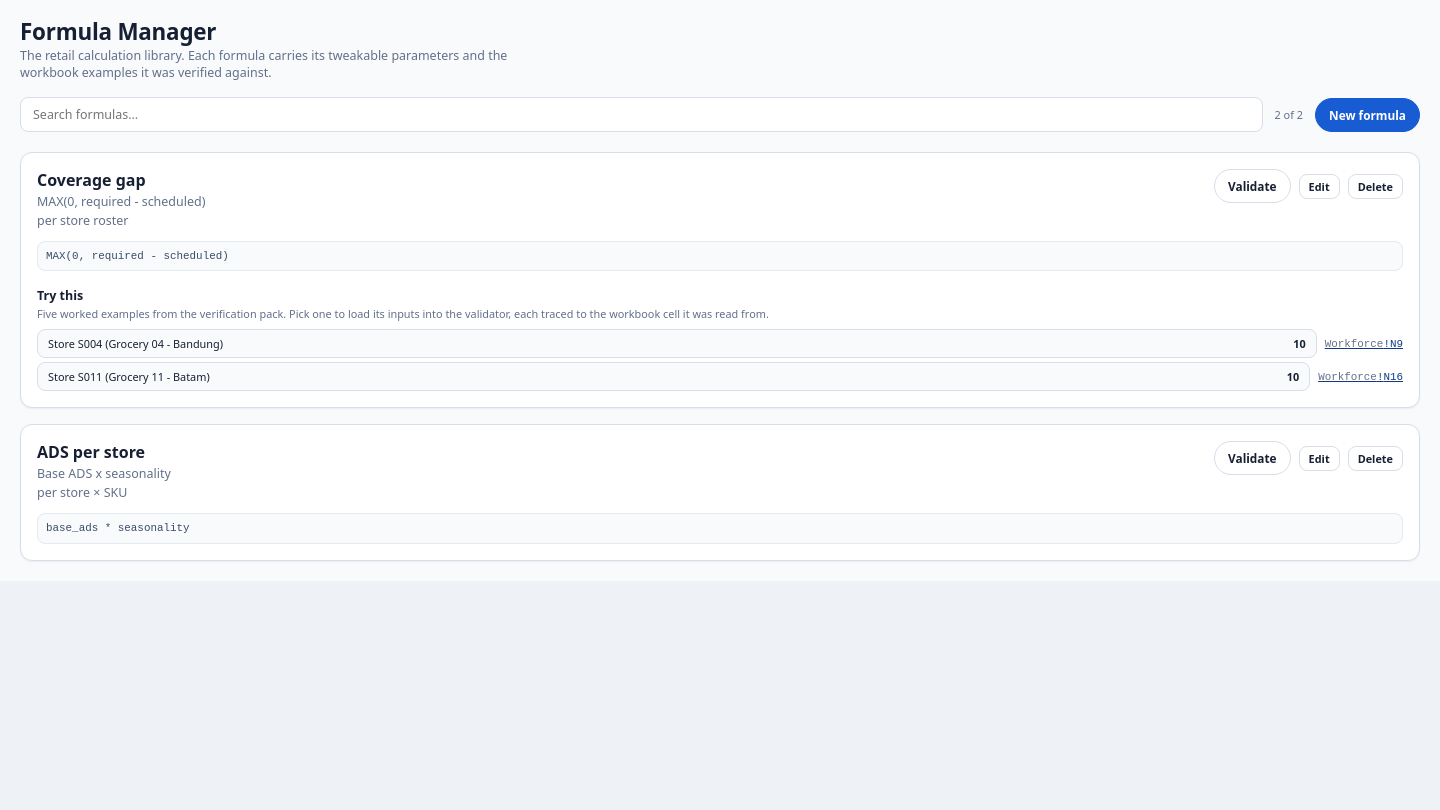
Test: Formula Manager › leaves the validator uncited when no example is loaded
Check: the heading "Coverage gap" is shown, box [37,169,146,191]
Click the button "Validate" in the row of "Coverage gap" at (1252, 186), box [1214,169,1291,203]
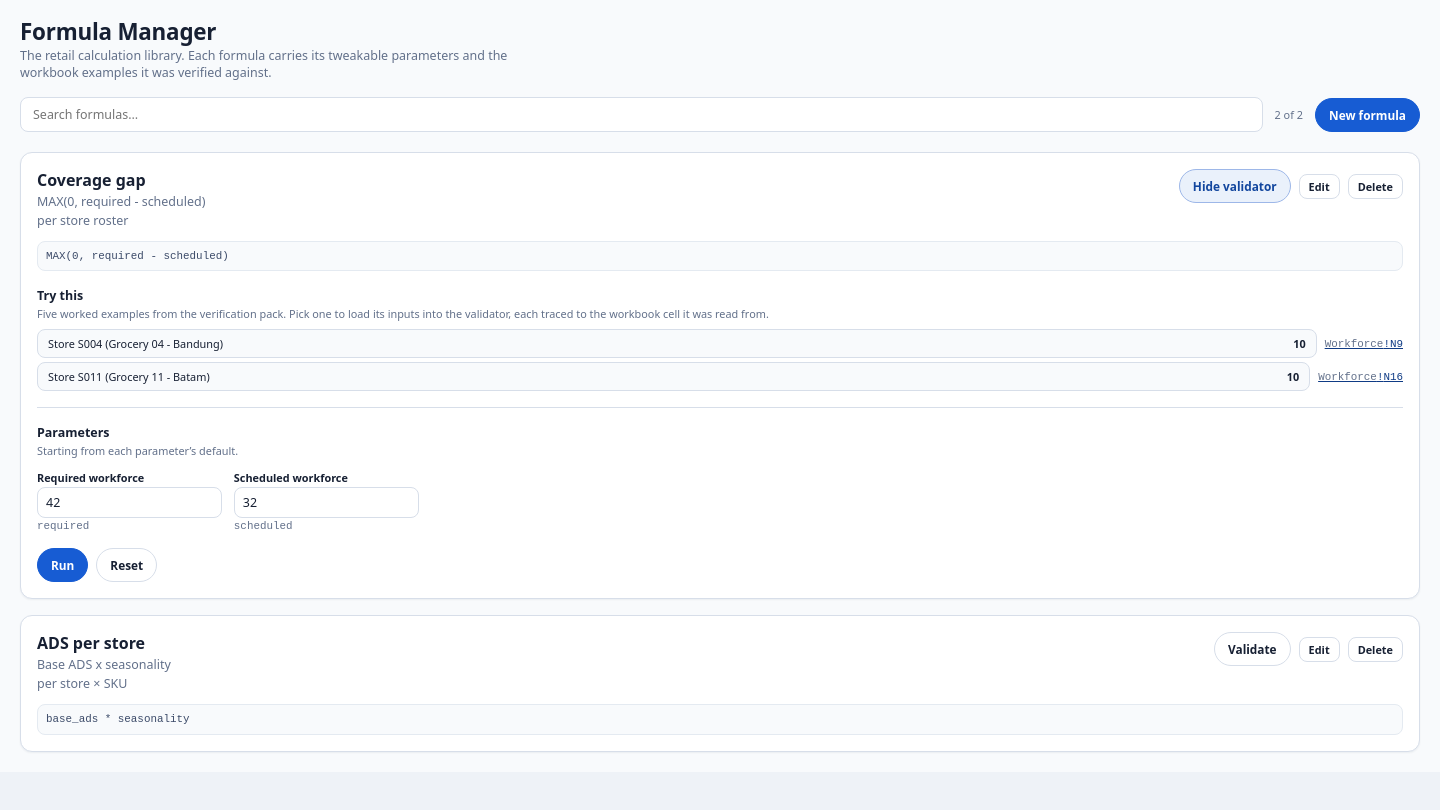
Check: the number field labelled "Required workforce" is shown, box [37,487,222,518]
